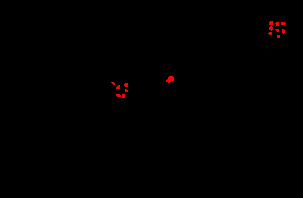Target: (166, 76, 174, 83), (269, 26, 273, 31), (269, 21, 273, 25), (275, 22, 279, 26), (124, 83, 128, 87), (116, 85, 120, 89), (281, 22, 286, 25), (282, 29, 285, 34), (116, 94, 121, 97), (275, 29, 279, 32), (268, 32, 272, 35), (111, 82, 115, 85), (122, 94, 125, 98), (277, 35, 280, 38), (125, 89, 128, 92)
